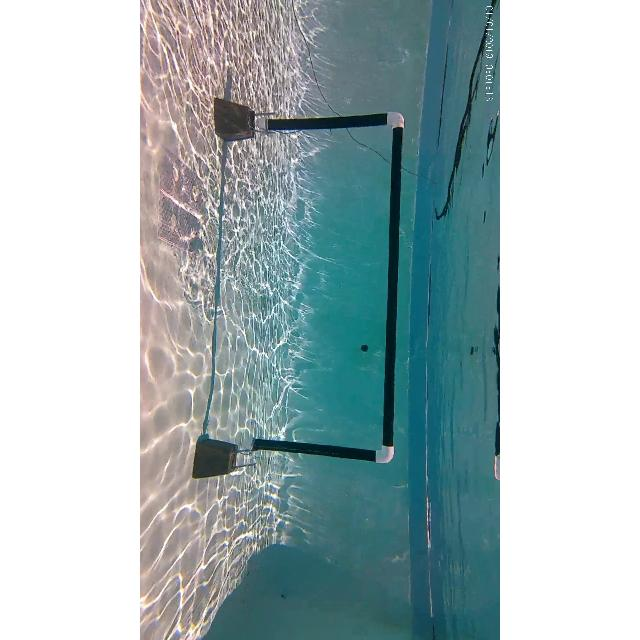prequal gate: (243, 112, 405, 464)
prequal gate leg l: (207, 96, 403, 146)
prequal gate leg r: (200, 426, 398, 474)
